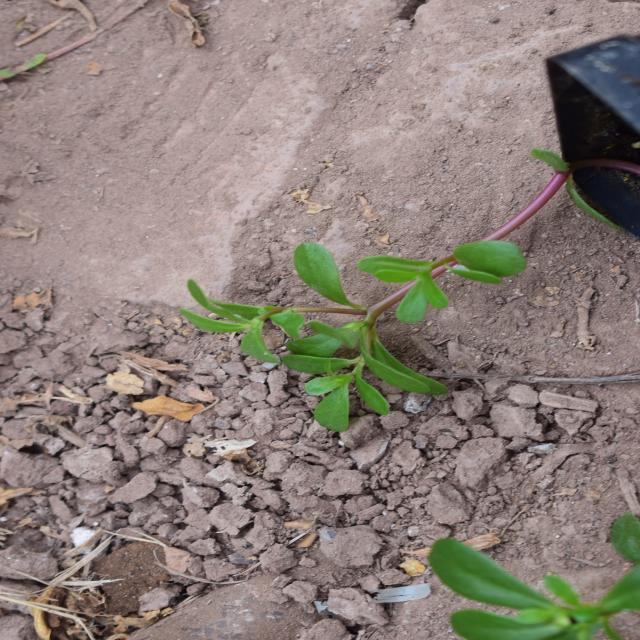purslane: (186, 173, 440, 580)
